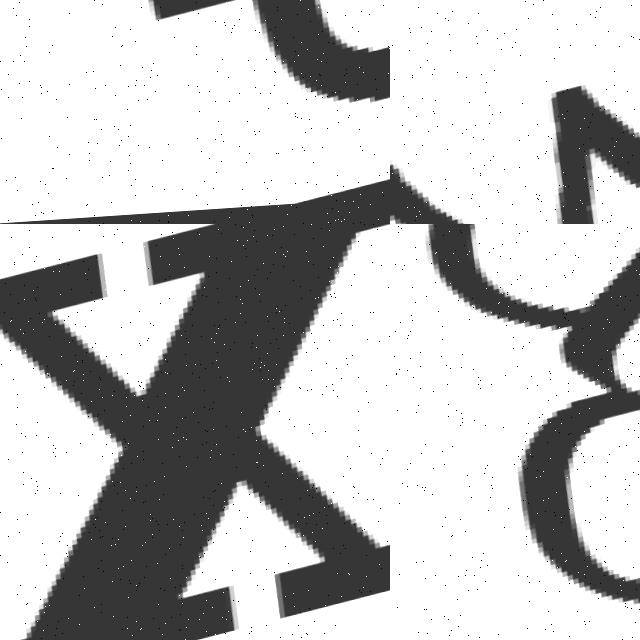F: (65, 0, 390, 176)
G: (390, 224, 640, 640)
W: (390, 17, 640, 224)
X: (0, 224, 390, 640)
